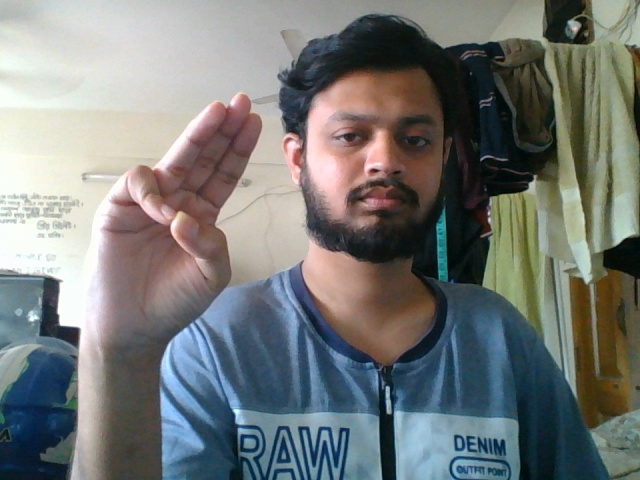ma: (78, 89, 267, 397)
